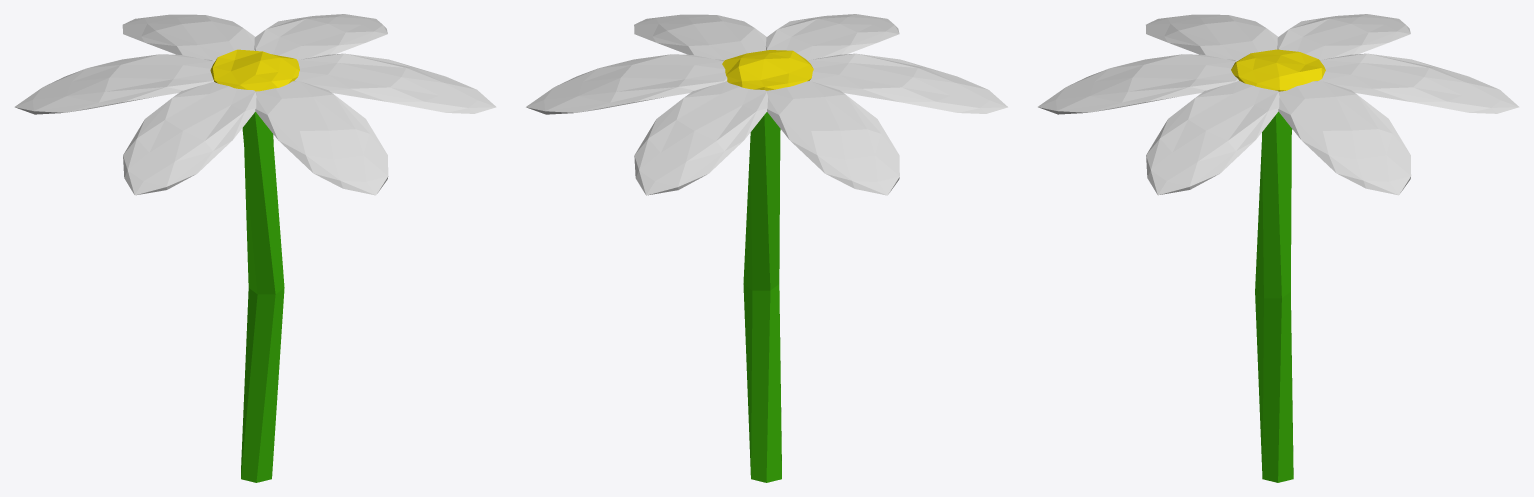
The model's file is stm_prop_daisey.fbx.
3 renders of one model, left to right at view 1: azimuth 30°, elevation 25°; view 2: azimuth 150°, elevation 25°; view 3: azimuth 270°, elevation 25°, orthographic.
Parts seen in each view (by area): view 1: Sphere_7; view 2: Sphere_7; view 3: Sphere_7.
Part boxes in pixels (x1,y1,x2,y2): Sphere_7: [14, 14, 496, 482]; Sphere_7: [526, 14, 1007, 482]; Sphere_7: [1038, 14, 1519, 482].
Size of the model in its own units: 1970 by 2155 by 2274.
